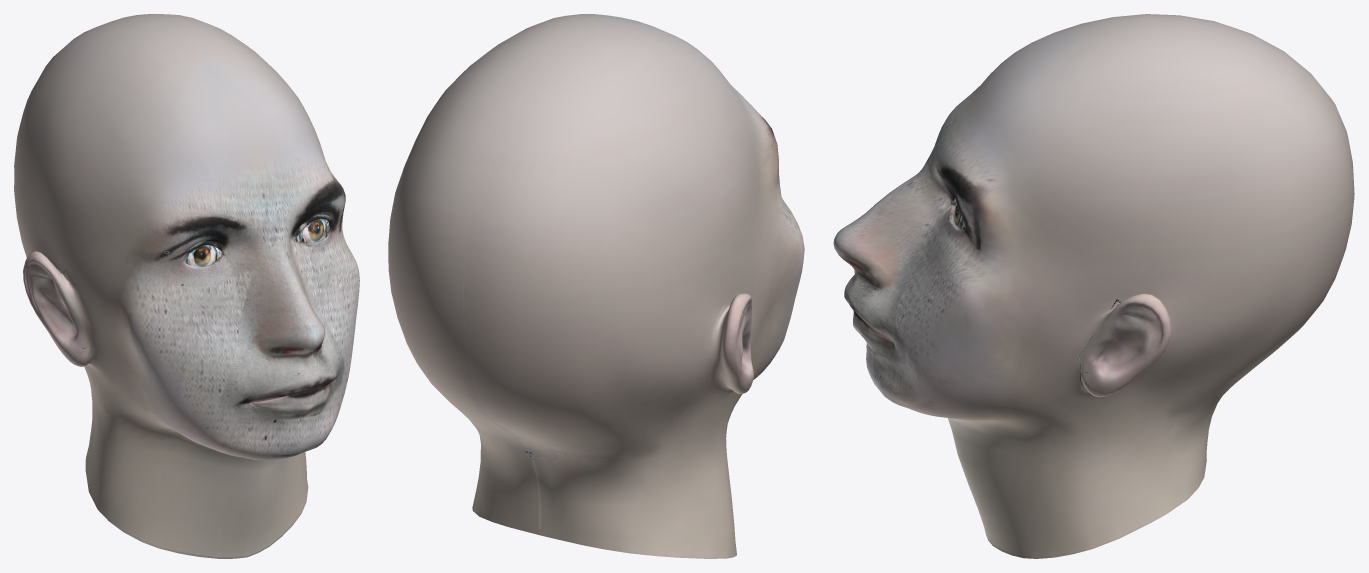
Rendered from cesarioverde.fbx.
3 renders of one model, left to right at view 1: azimuth 30°, elevation 25°; view 2: azimuth 150°, elevation 25°; view 3: azimuth 270°, elevation 25°, orthographic. The views are drawn at different scales.
Visible parts, largest first — view 1: Skin, LeftEye, RightEye; view 2: Skin; view 3: Skin.
Boxes of the visible parts, x1,y1,x2,y2 form: Skin: (14, 14, 359, 558); LeftEye: (184, 245, 221, 267); RightEye: (295, 218, 328, 242); Skin: (388, 14, 804, 558); Skin: (833, 14, 1354, 558).
Size of the model in its own units: 180 by 285 by 264.
